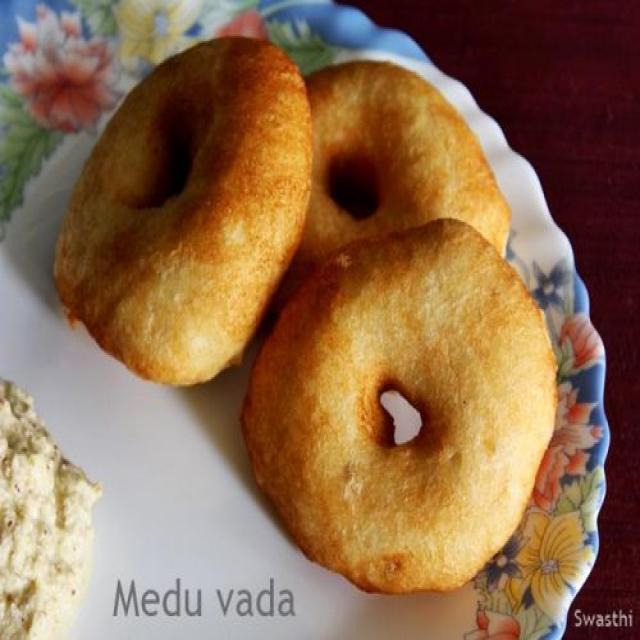MEDU VADA: (243, 218, 556, 591), (55, 39, 311, 384), (296, 61, 509, 268)
